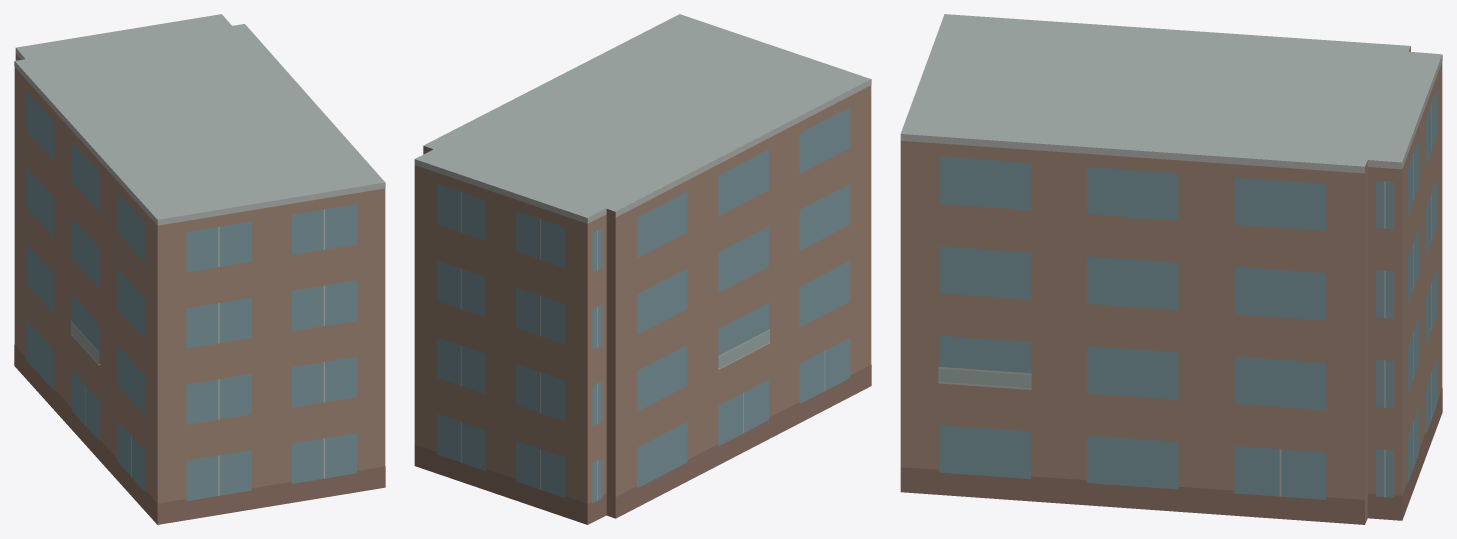
Rendered from survey-upis-32894226.glb.
3 renders of one model, left to right at view 1: azimuth 30°, elevation 25°; view 2: azimuth 150°, elevation 25°; view 3: azimuth 270°, elevation 25°, orthographic. The views are drawn at different scales.
Parts seen in each view (by area): view 1: survey-upis-32894226.tmp; view 2: survey-upis-32894226.tmp; view 3: survey-upis-32894226.tmp.
Boxes of the visible parts, left/top/right/bottom form: survey-upis-32894226.tmp: left=14, top=14, right=385, bottom=524; survey-upis-32894226.tmp: left=414, top=14, right=871, bottom=524; survey-upis-32894226.tmp: left=900, top=14, right=1442, bottom=524.
Size of the model in its own units: 11.71 by 12.8 by 17.56.
